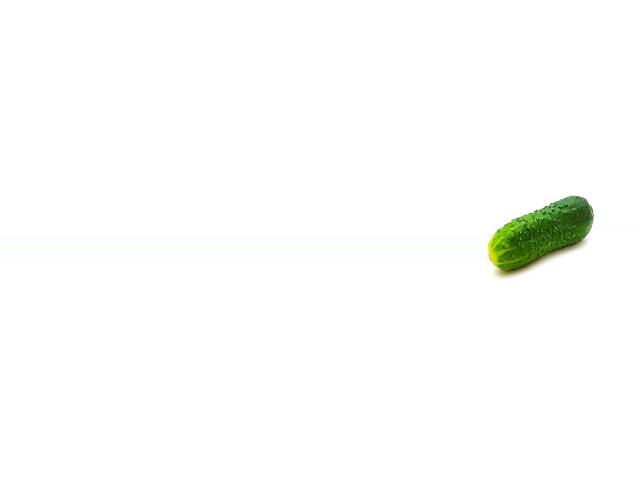cucumber: (487, 195, 593, 270)
